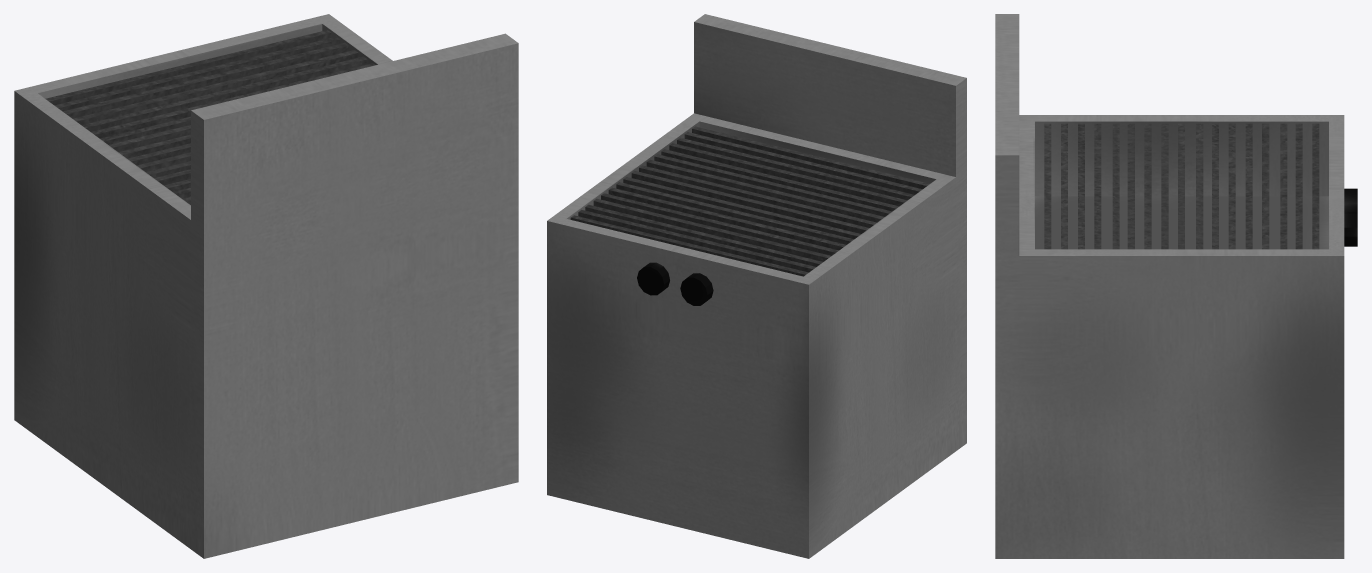
The model's file is v1Stove.fbx.
3 views of the same model, side by side, from view 1: azimuth 30°, elevation 25°; view 2: azimuth 150°, elevation 25°; view 3: azimuth 270°, elevation 25° (orthographic). The views are drawn at different scales.
Visible parts, largest first — view 1: Stove; view 2: Stove; view 3: Stove.
Part boxes in pixels (box(x1,y1,x2,y2)): Stove: box(14, 14, 518, 558); Stove: box(547, 14, 966, 558); Stove: box(995, 14, 1357, 558).
Size of the model in its own units: 200 by 267 by 217.
